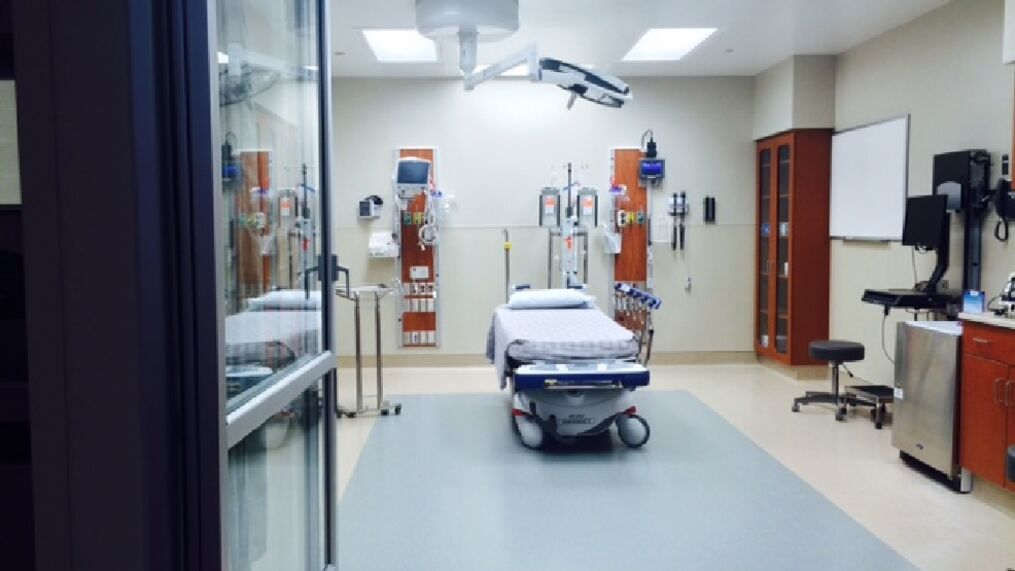bedrail: (605, 288, 662, 352)
bedside_monitor: (396, 159, 432, 193)
cabinet: (750, 129, 832, 363)
chair: (791, 336, 873, 421)
door_handle: (328, 249, 354, 302)
handle: (1000, 376, 1012, 407), (994, 376, 1006, 407), (970, 335, 989, 347)
iv_pole: (555, 159, 591, 287)
operating_bed: (489, 288, 654, 448)
surgical_light: (544, 48, 630, 112)
table: (960, 310, 1011, 512)
